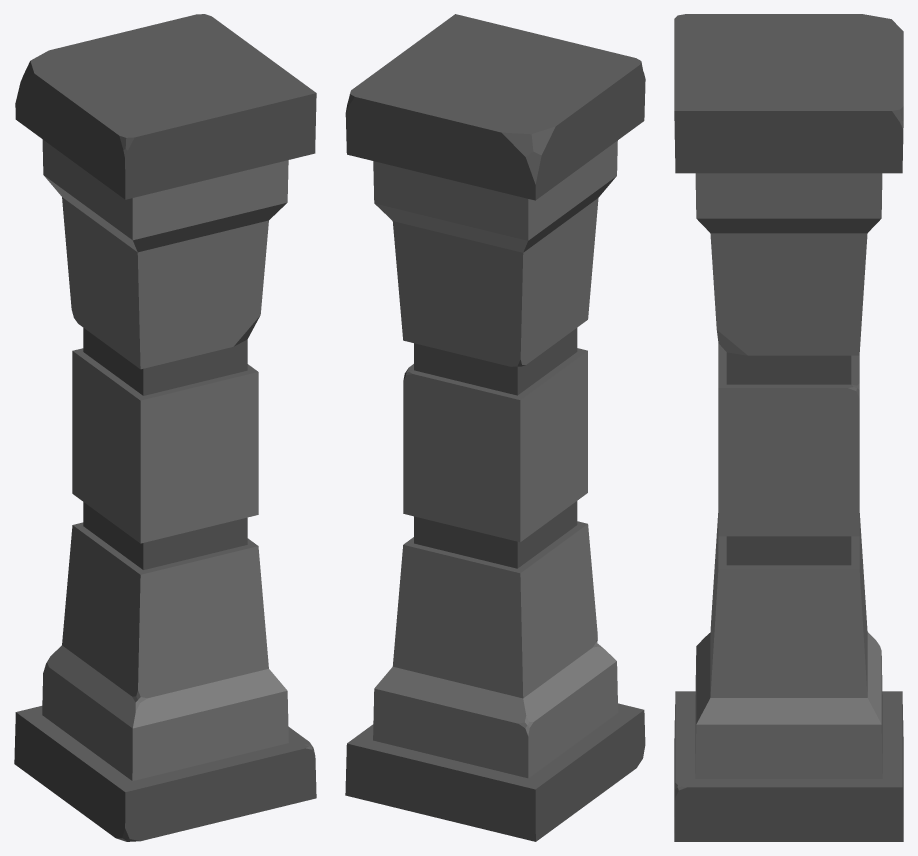
Rendered from Pillar_03.fbx.
3 renders of one model, left to right at view 1: azimuth 30°, elevation 25°; view 2: azimuth 150°, elevation 25°; view 3: azimuth 270°, elevation 25°, orthographic. The views are drawn at different scales.
Parts seen in each view (by area): view 1: Pillar_03; view 2: Pillar_03; view 3: Pillar_03.
Part boxes in pixels (left/top/right/bottom): Pillar_03: left=14, top=14, right=316, bottom=841; Pillar_03: left=345, top=14, right=645, bottom=841; Pillar_03: left=674, top=14, right=903, bottom=841.
Size of the model in its own units: 71.65 by 252 by 71.65.
